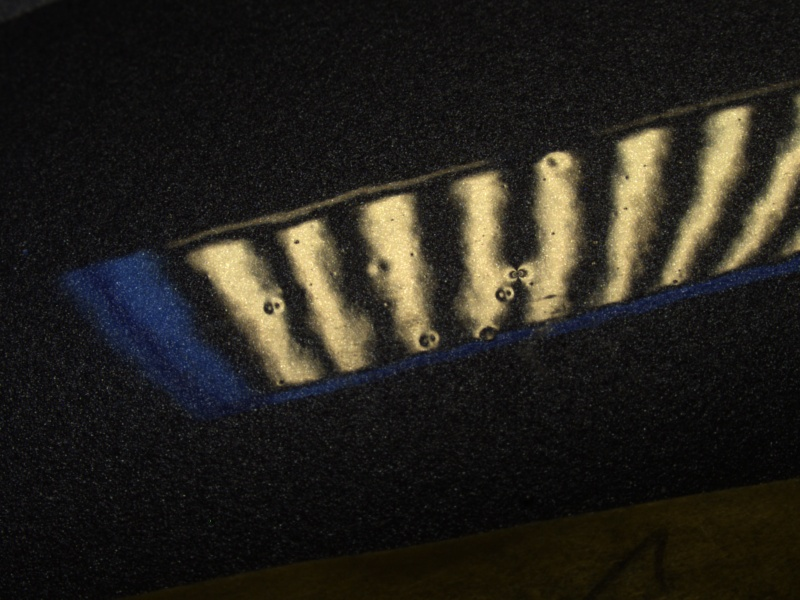bad: (495, 256, 540, 285), (253, 289, 292, 321), (359, 253, 397, 284), (534, 147, 572, 174), (412, 326, 447, 351), (490, 279, 518, 306)
